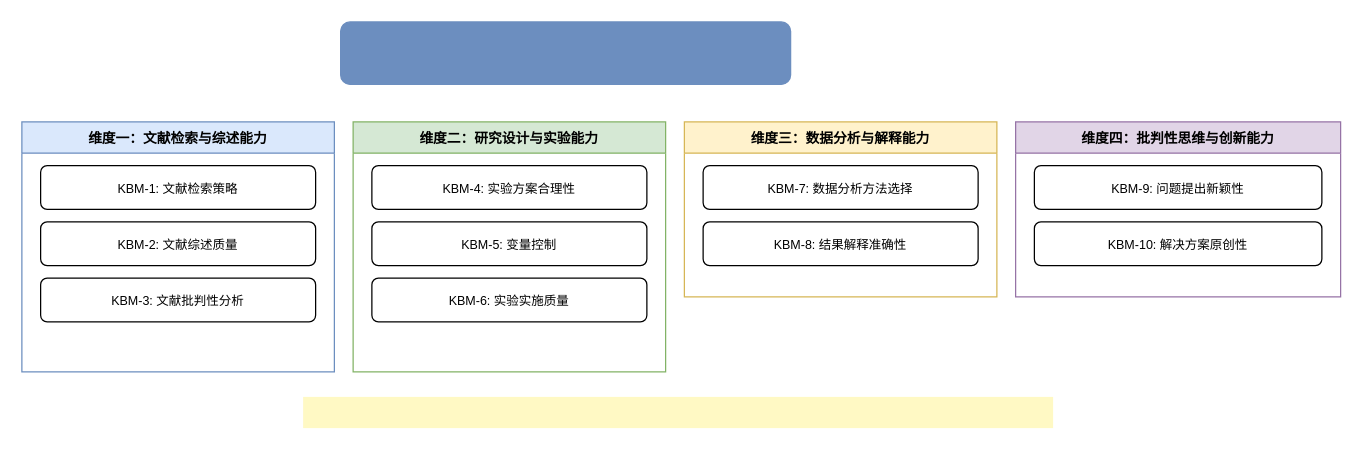
This 1363x450 diagram has some shape labels left out. Each missing label, with the centre of its shape:
"大学生研究能力评价指标体系（10项KBM）" goes at point 565,52.
"注：设计阶段规划12项KBM，其中KBM-9(可视化与呈现)和KBM-12(反思与改进)待后续扩展纳入实现。" goes at point 677,412.
